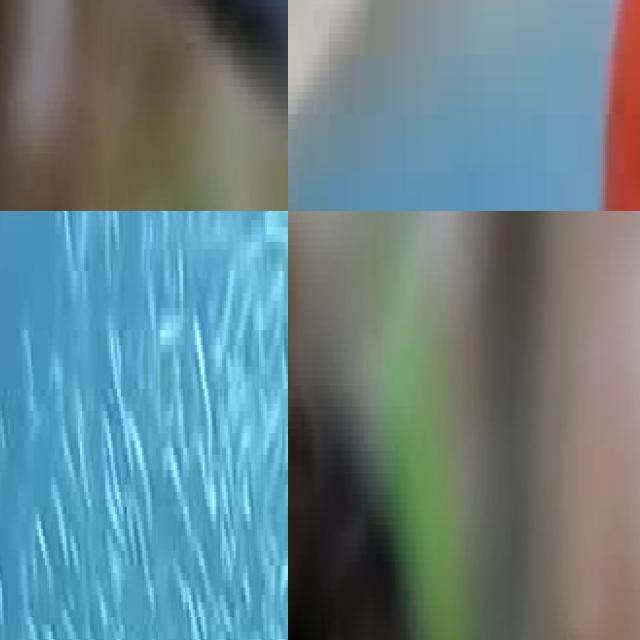fish: (288, 230, 442, 640), (0, 0, 288, 211)
